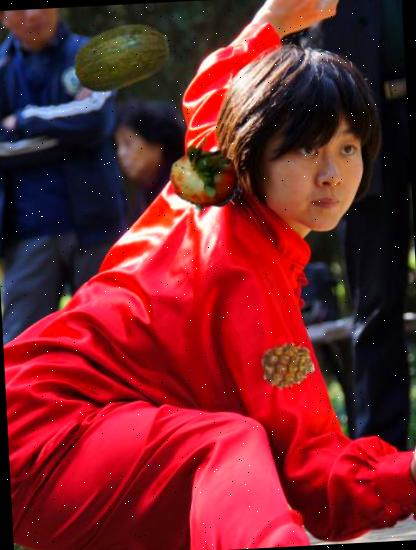Melon: (71, 5, 174, 108)
Pineapple: (260, 336, 316, 394)
Strawberry: (164, 134, 247, 217)
